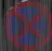No Stopping: (6, 0, 49, 50)
